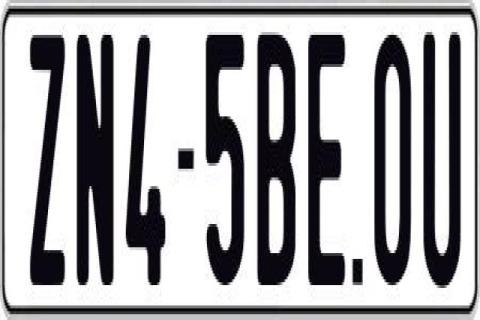0: (372, 32, 416, 291), (125, 26, 168, 291), (203, 35, 243, 299)
B: (255, 29, 293, 282)
E: (305, 27, 341, 280)
N: (76, 29, 117, 294)
U: (421, 29, 460, 288)
Z: (28, 26, 65, 291)
